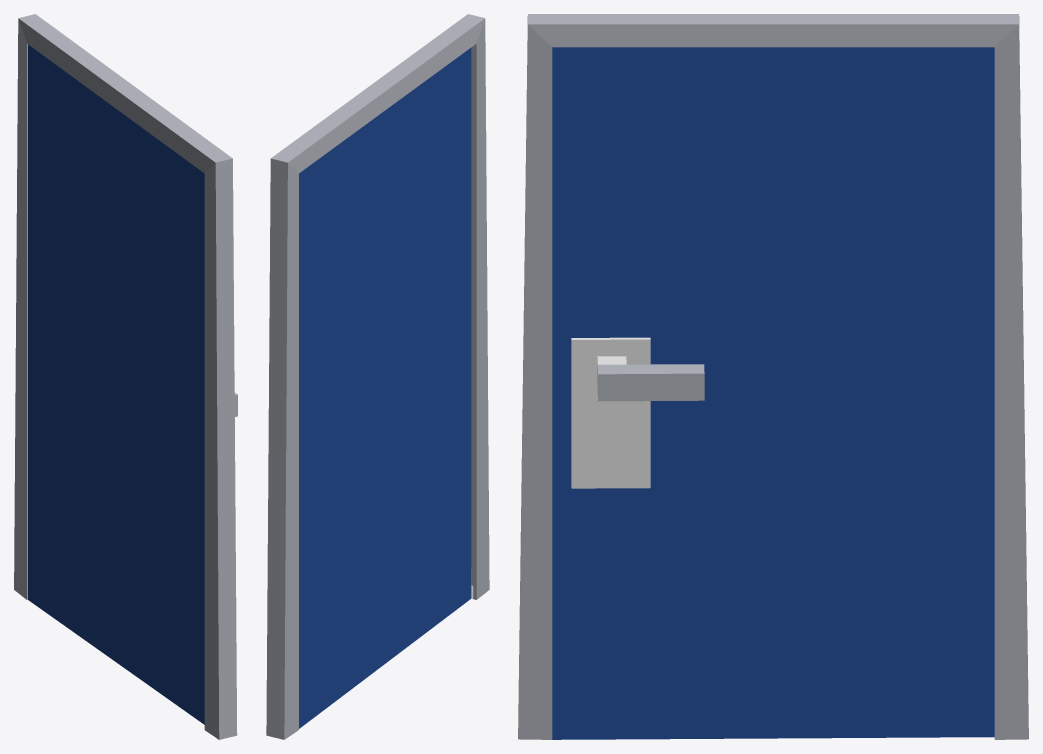
Rendered from Porte.FBX.
3 renders of one model, left to right at view 1: azimuth 30°, elevation 25°; view 2: azimuth 150°, elevation 25°; view 3: azimuth 270°, elevation 25°, orthographic. The views are drawn at different scales.
Parts seen in each view (by area): view 1: Box002, Box003; view 2: Box002, Box003; view 3: Box002, Box003.
Part boxes in pixels (x1,y1,x2,y2): Box002: (28,44,237,724); Box003: (14,14,237,739); Box002: (299,48,471,728); Box003: (266,14,489,739); Box002: (552,47,994,739); Box003: (518,14,1028,739).
Size of the model in its own units: 18.46 by 196 by 127.
